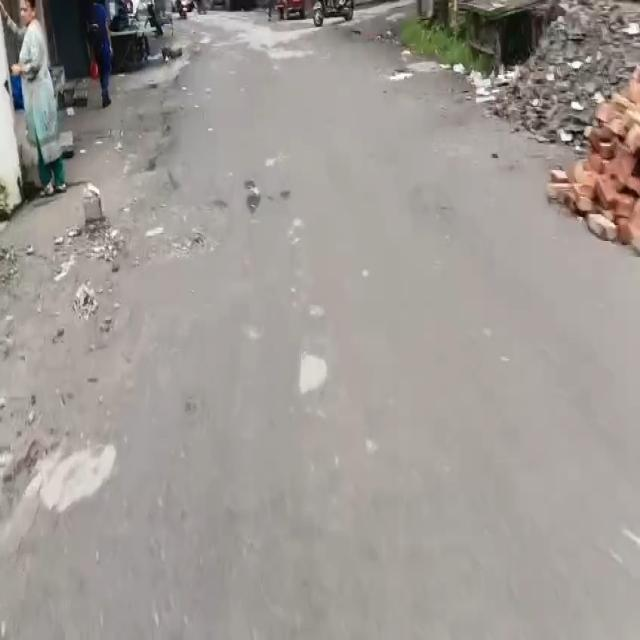road-pothole: (112, 196, 233, 278)
